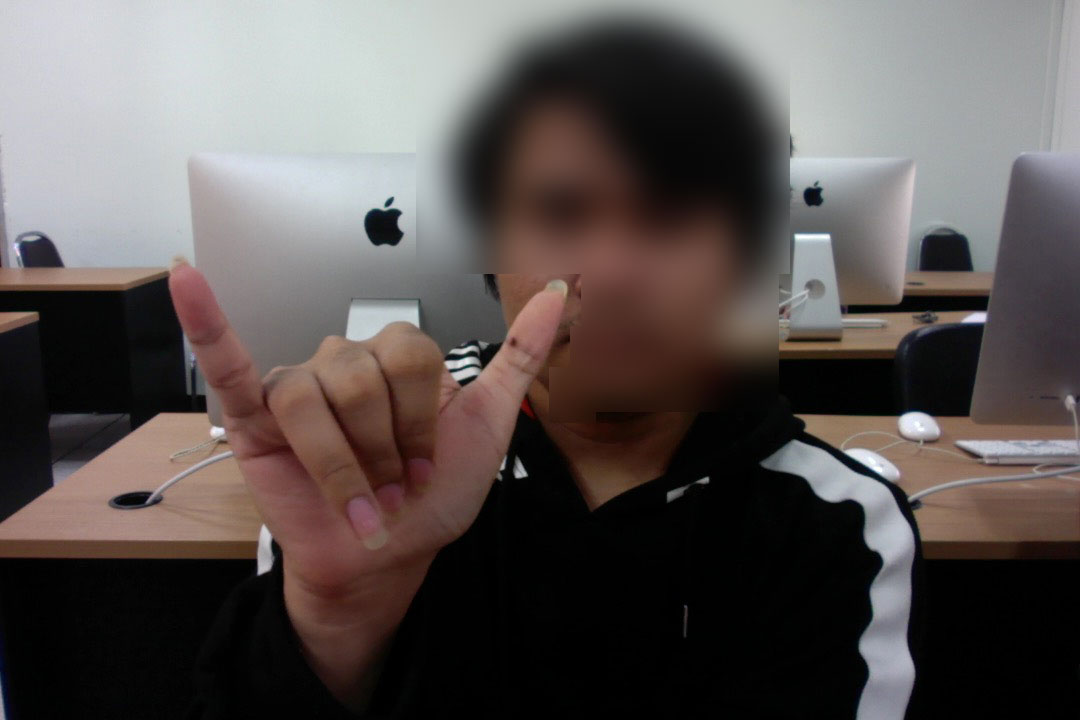yor: (150, 244, 598, 614)
